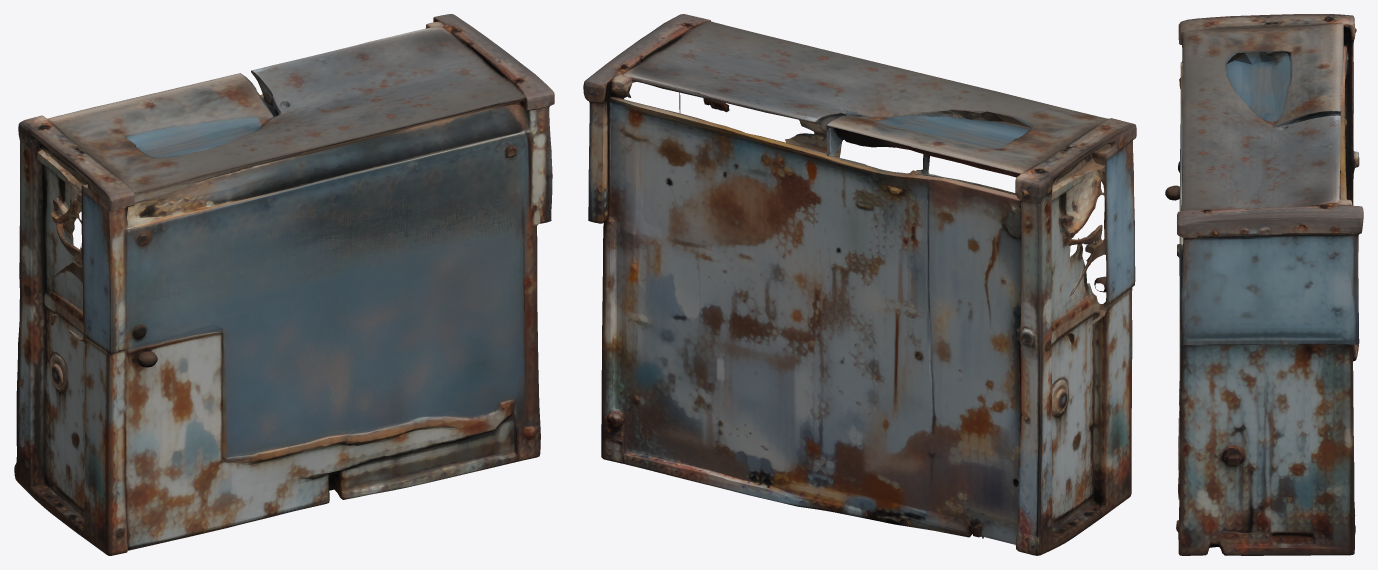
The model's file is metal_crate_42_20251230_114026_20251230_115307.glb.
3 views of the same model, side by side, from view 1: azimuth 30°, elevation 25°; view 2: azimuth 150°, elevation 25°; view 3: azimuth 270°, elevation 25° (orthographic). The views are drawn at different scales.
Parts seen in each view (by area): view 1: world; view 2: world; view 3: world.
Part boxes in pixels (box(x1,y1,x2,y2)): world: box(14, 14, 554, 555); world: box(583, 14, 1136, 555); world: box(1165, 14, 1363, 555).
Size of the model in its own units: 0.9913 by 0.7979 by 0.41.
Materials: 1 (1 with a texture image).
